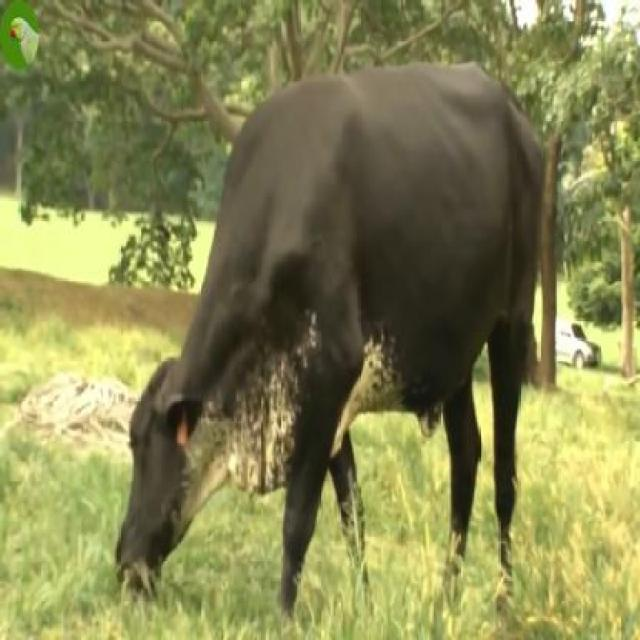Cow: (113, 60, 544, 611)
